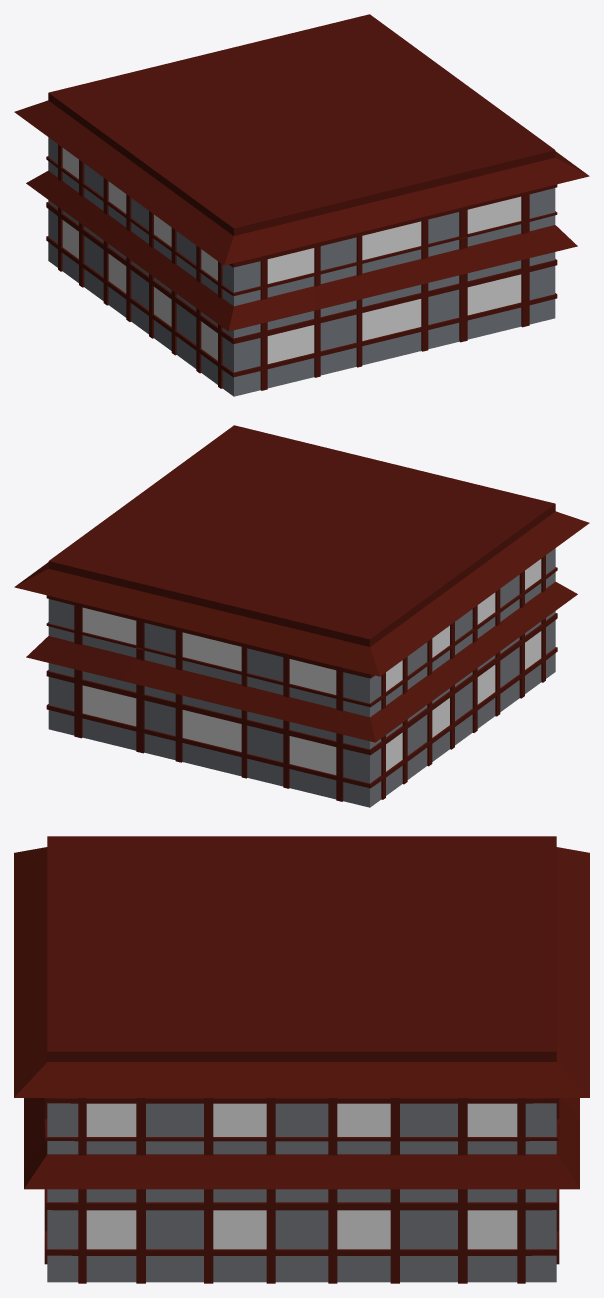
File: japan_15X15build.fbx
3 views of the same model, one above another, from view 1: azimuth 30°, elevation 25°; view 2: azimuth 150°, elevation 25°; view 3: azimuth 270°, elevation 25° (orthographic). The views are drawn at different scales.
Visible parts, largest first — view 1: Cube; view 2: Cube; view 3: Cube.
Part boxes in pixels (box(x1,y1,x2,y2)): Cube: box(14, 14, 589, 396); Cube: box(14, 425, 589, 807); Cube: box(14, 836, 589, 1283).
Size of the model in its own units: 228 by 100 by 226.
